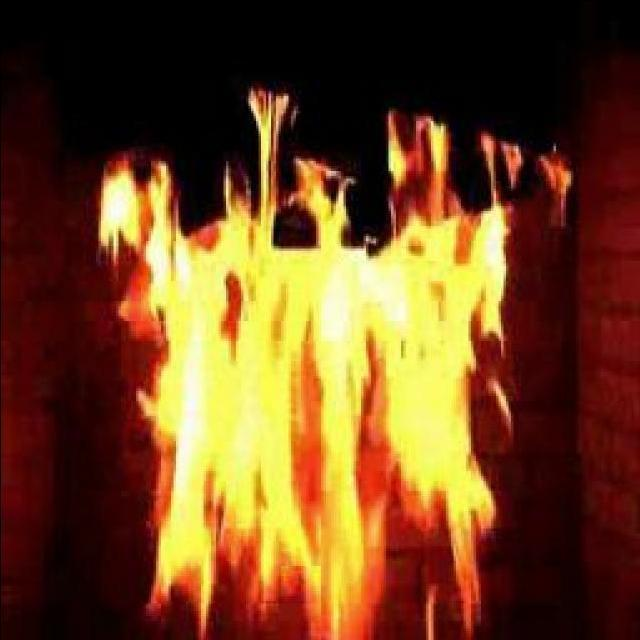Fire: (110, 163, 490, 588)
